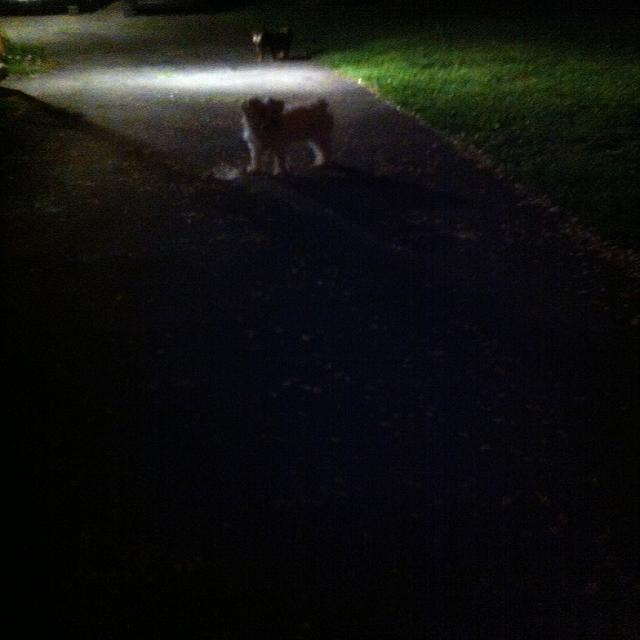dog: (228, 57, 375, 186)
